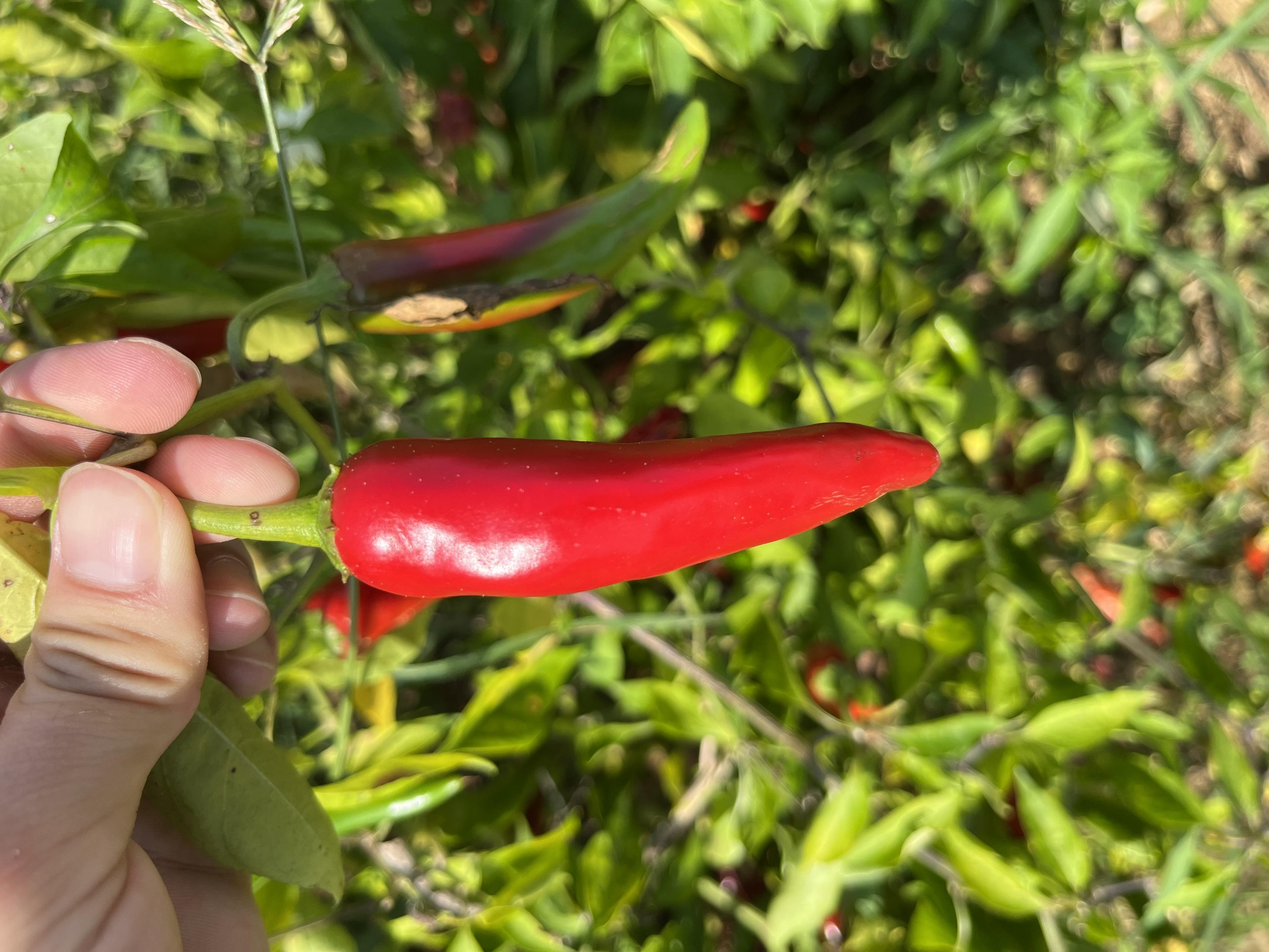Buah Cabai Sehat: (444, 229, 718, 711), (834, 233, 1151, 539)
